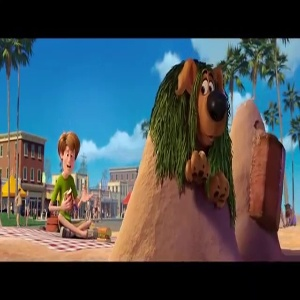Scooby: (175, 60, 227, 150)
Shagy: (54, 124, 89, 180)
